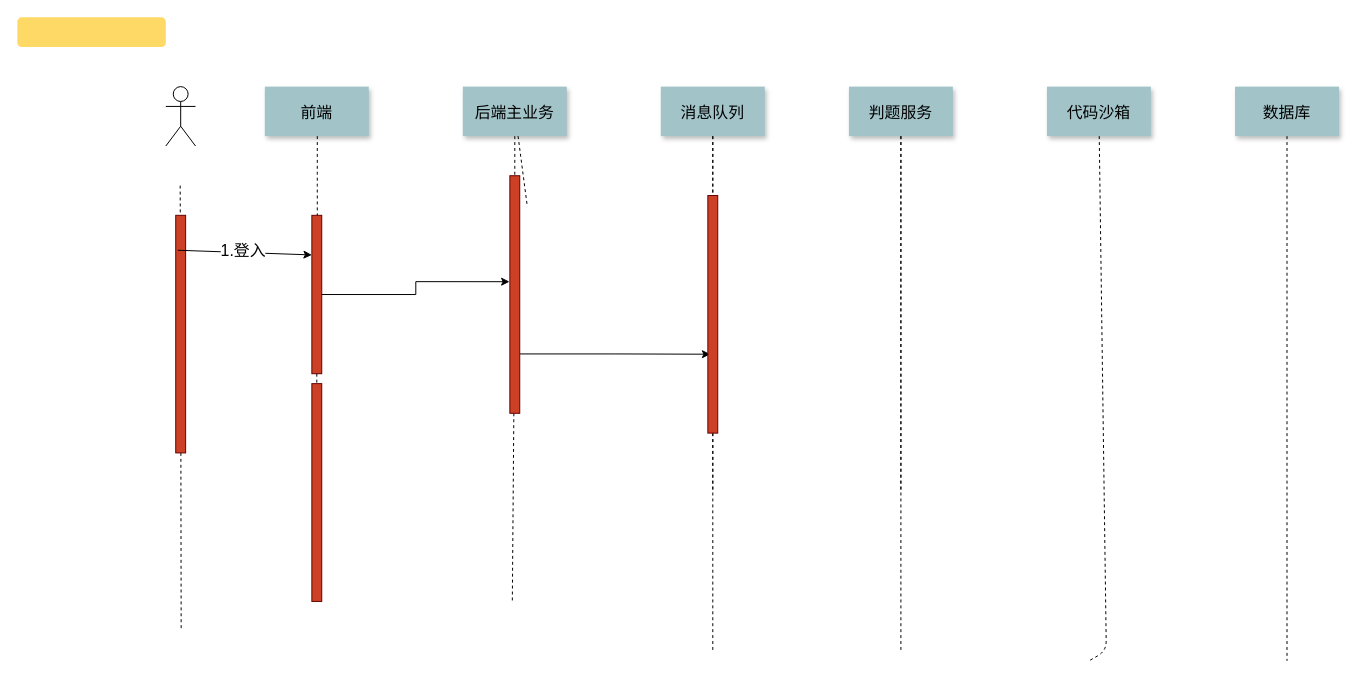
Image size: 1361x679. Some labels were removed from this diagram. The centre of each missing label's shape, as x and y in pixels:
"Actor" belongs at point (180, 116).
"rt submit_changes" belongs at point (91, 32).
